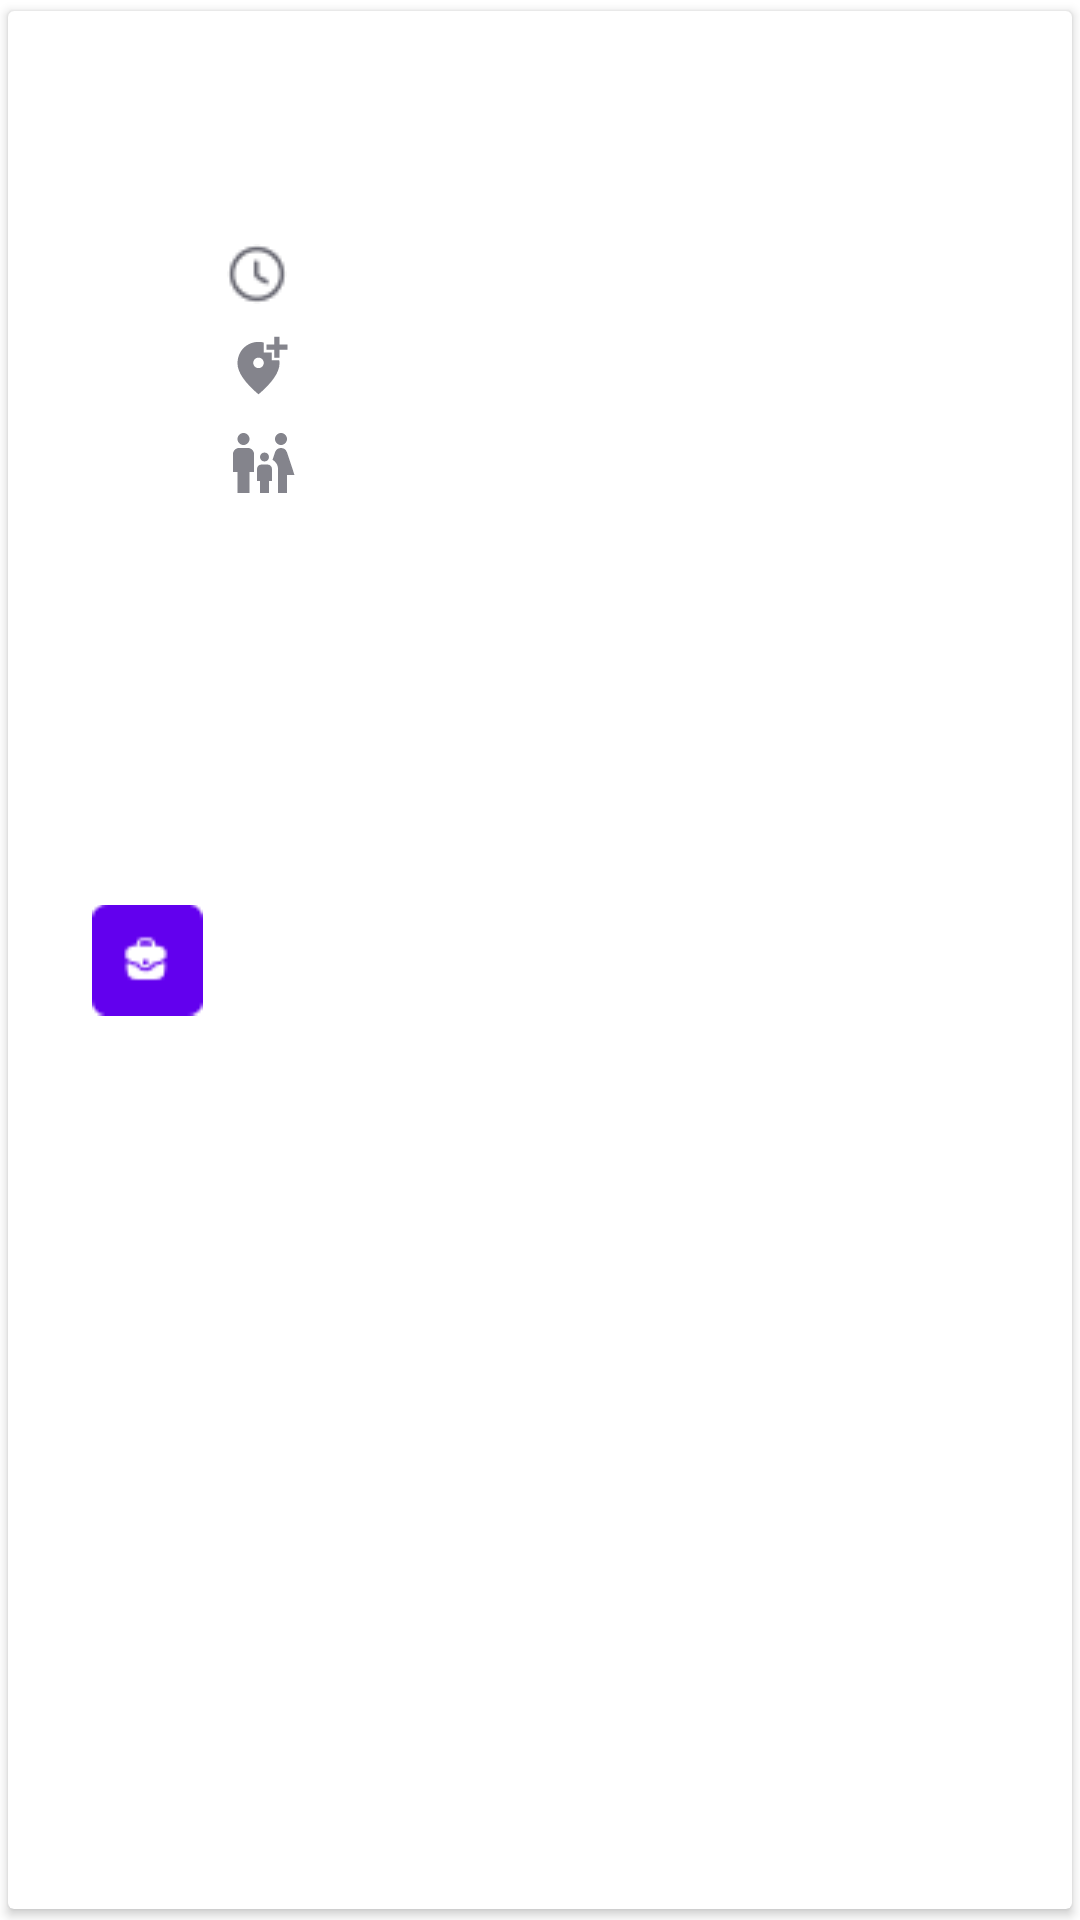

Screen size 1080x1920. Icon name, then its box in pixels as bbox=[x1, y1, x2, y2]:
add location: bbox=[237, 336, 288, 394]
family restroom: bbox=[233, 433, 295, 493]
hours: bbox=[229, 246, 285, 302]
job: bbox=[92, 905, 203, 1016]
